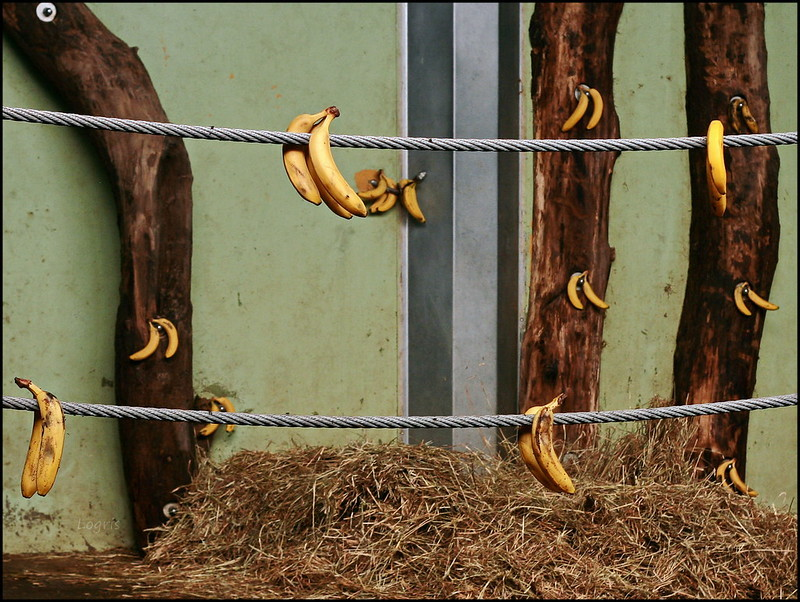banana: (274, 114, 366, 222), (518, 399, 573, 511), (17, 385, 60, 493), (124, 313, 182, 370), (703, 125, 729, 217), (565, 83, 607, 133), (562, 270, 609, 314)
